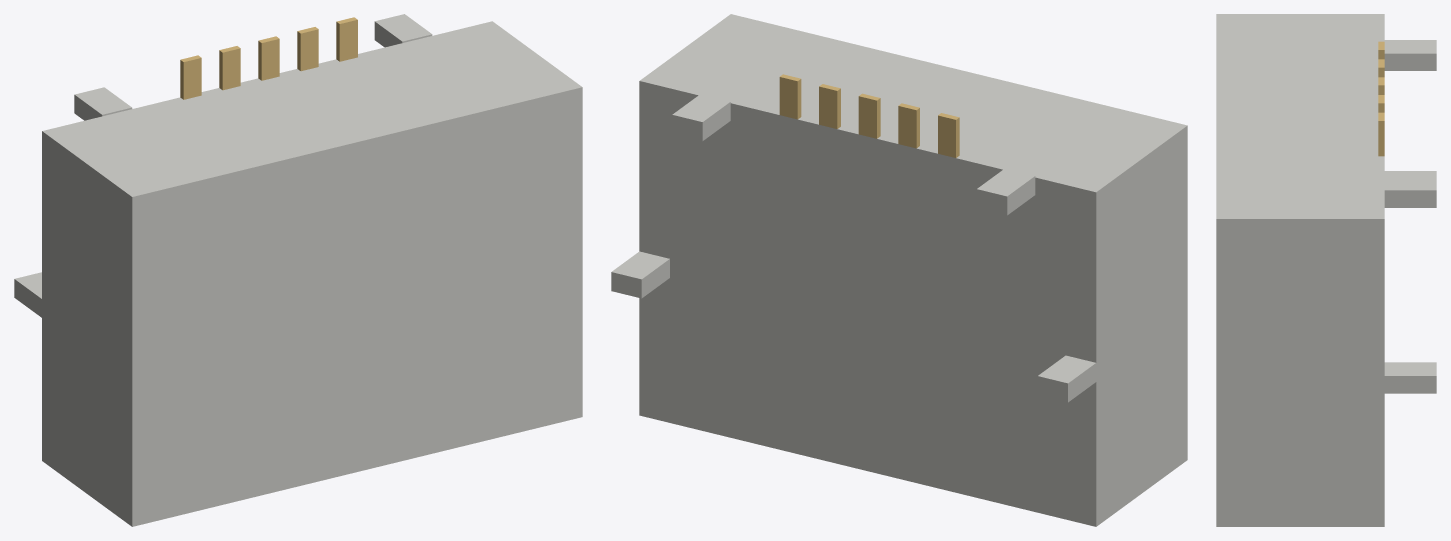
Rendered from usb_micro-b_molex-105017-0001.glb.
3 views of the same model, side by side, from view 1: azimuth 30°, elevation 25°; view 2: azimuth 150°, elevation 25°; view 3: azimuth 270°, elevation 25° (orthographic). The views are drawn at different scales.
Visible parts, largest first — view 1: USB_Micro-B_Molex-105017-0001; view 2: USB_Micro-B_Molex-105017-0001; view 3: USB_Micro-B_Molex-105017-0001.
Boxes of the visible parts, left/top/right/bottom form: USB_Micro-B_Molex-105017-0001: left=14, top=14, right=582, bottom=526; USB_Micro-B_Molex-105017-0001: left=611, top=14, right=1187, bottom=526; USB_Micro-B_Molex-105017-0001: left=1216, top=14, right=1436, bottom=526.
Bounding box in the file's own units: 7.5 × 5.85 × 3.4.
